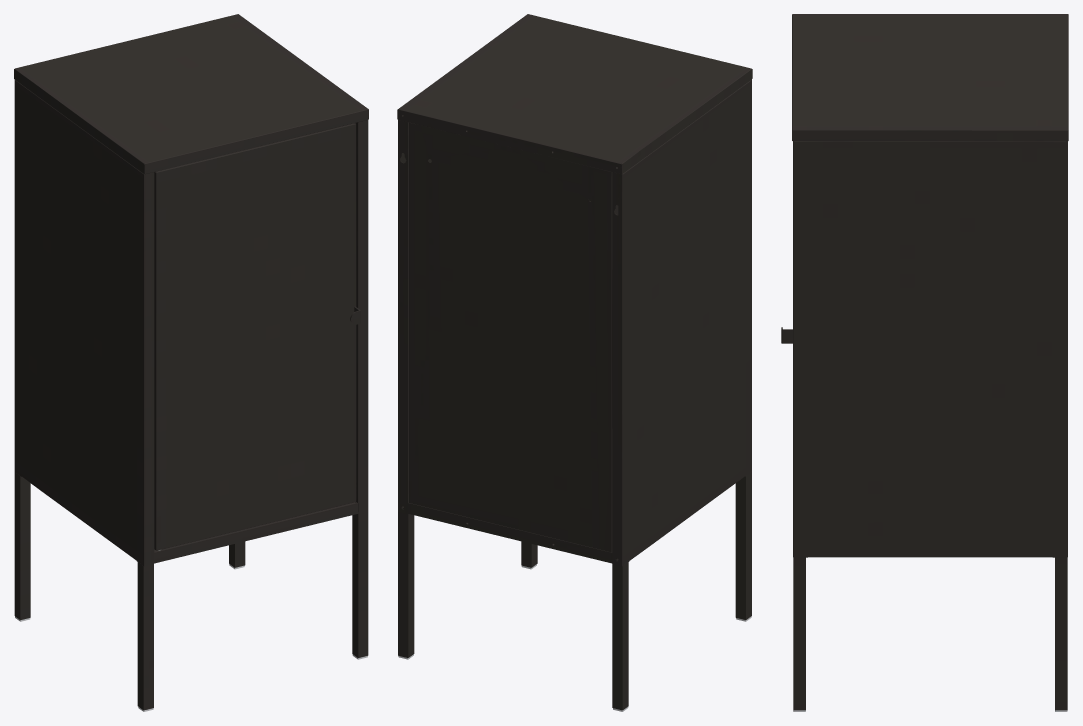
The model's file is lixhult_szafka_20476520.glb.
3 renders of one model, left to right at view 1: azimuth 30°, elevation 25°; view 2: azimuth 150°, elevation 25°; view 3: azimuth 270°, elevation 25°, orthographic. The views are drawn at different scales.
Parts seen in each view (by area): view 1: lixhult_szafka_20476520; view 2: lixhult_szafka_20476520; view 3: lixhult_szafka_20476520.
Boxes of the visible parts, <box> form: lixhult_szafka_20476520: <box>14,14,368,711</box>; lixhult_szafka_20476520: <box>397,14,752,711</box>; lixhult_szafka_20476520: <box>781,14,1068,711</box>.
Size of the model in its own units: 0.3502 by 0.817 by 0.3659.
1 material, 1 textured.
